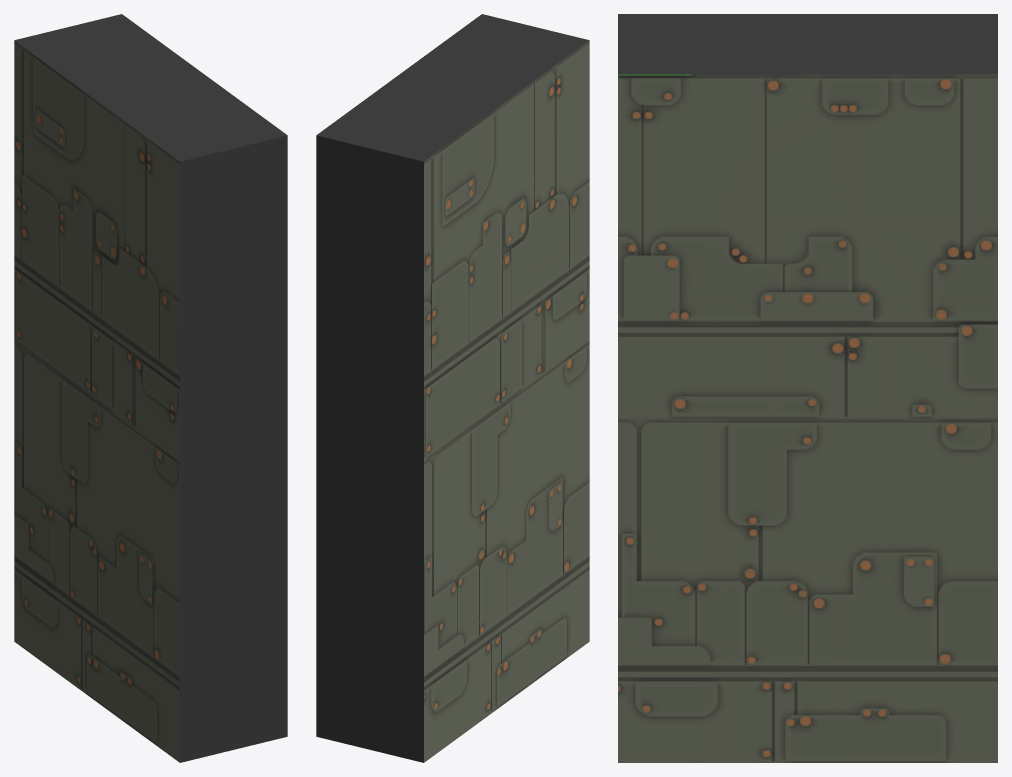
File: Env_Cnt_WallExterior_Short_Top.fbx
3 renders of one model, left to right at view 1: azimuth 30°, elevation 25°; view 2: azimuth 150°, elevation 25°; view 3: azimuth 270°, elevation 25°, orthographic. The views are drawn at different scales.
Parts seen in each view (by area): view 1: Wall_Exterior_Short_Top, Wall_Exterior_Short; view 2: Wall_Exterior_Short_Top, Wall_Exterior_Short; view 3: Wall_Exterior_Short_Top, Wall_Exterior_Short.
Boxes of the visible parts, bbox=[...] form: Wall_Exterior_Short_Top: bbox=[14, 14, 287, 462]; Wall_Exterior_Short: bbox=[14, 341, 287, 762]; Wall_Exterior_Short_Top: bbox=[316, 14, 589, 462]; Wall_Exterior_Short: bbox=[316, 341, 589, 762]; Wall_Exterior_Short_Top: bbox=[618, 14, 997, 418]; Wall_Exterior_Short: bbox=[618, 418, 997, 762].
Size of the model in its own units: 37.5 by 200 by 100.
